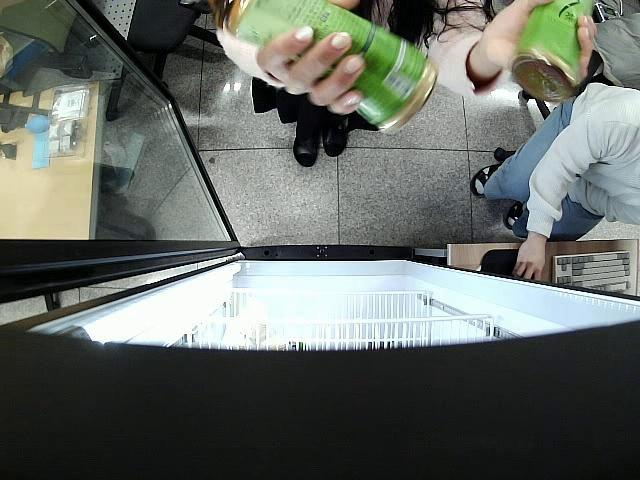19_17cha: (202, 0, 439, 138), (512, 0, 595, 102)
